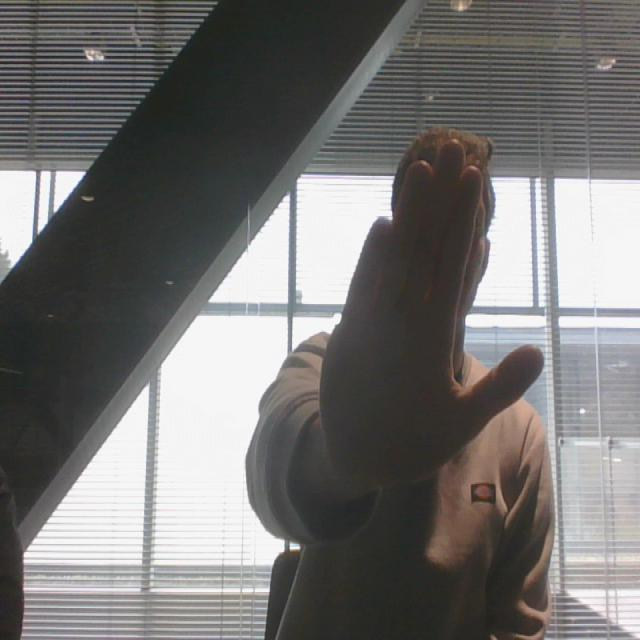backward: (316, 135, 548, 495)
